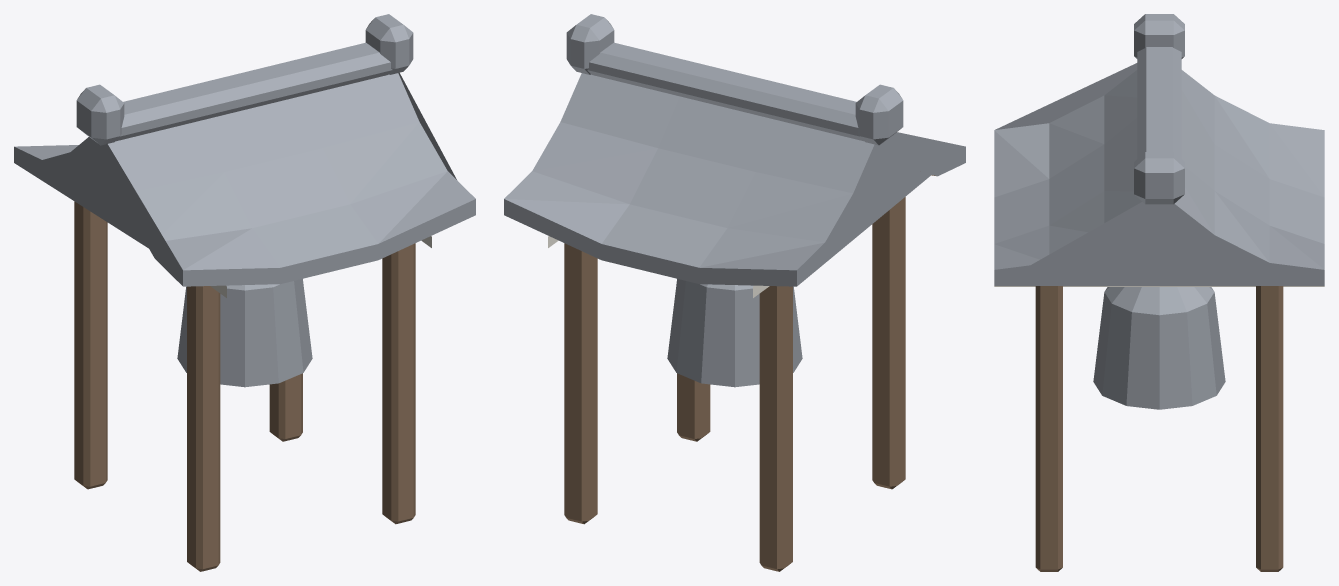
The model's file is feudal-japan-castle-town-bell-pavilion-0a54ae4f__26292.glb.
The picture shows the model from 3 angles, left to right: view 1: azimuth 30°, elevation 25°; view 2: azimuth 150°, elevation 25°; view 3: azimuth 270°, elevation 25°; orthographic projection. The views are drawn at different scales.
Parts seen in each view (by area): view 1: bell-pavilion; view 2: bell-pavilion; view 3: bell-pavilion.
Boxes of the visible parts, x1,y1,x2,y2 form: bell-pavilion: (14,14,475,571); bell-pavilion: (504,14,965,571); bell-pavilion: (994,14,1324,571).
Bounding box in the file's own units: 3.3 × 4.36 × 3.
